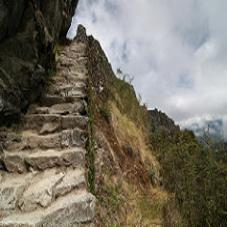Stair Up: (0, 43, 96, 227)
